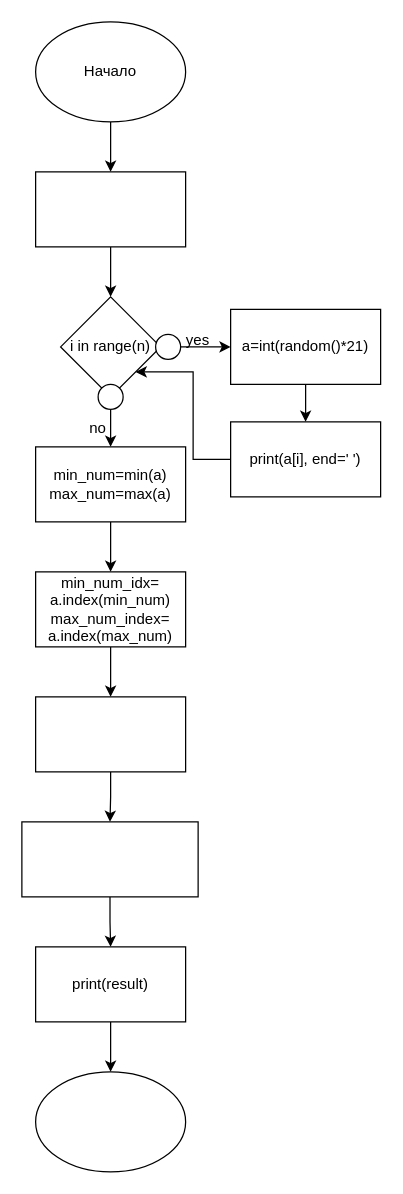
Some shapes in this 403 by 1194 pixel diagram are drawn without their labels. The box of each missing label's shape, as (x1, y1, x2, y2) in pixels:
a[min_idx],a[max_idx]= a[max_idx],a[min_idx]: (21, 821, 198, 897)
import random n=int(input()) a = [0] * n: (34, 171, 186, 247)
print(min_num, min_idx) print(max_num, max_idx): (34, 696, 186, 772)
Конец: (34, 1071, 186, 1172)
